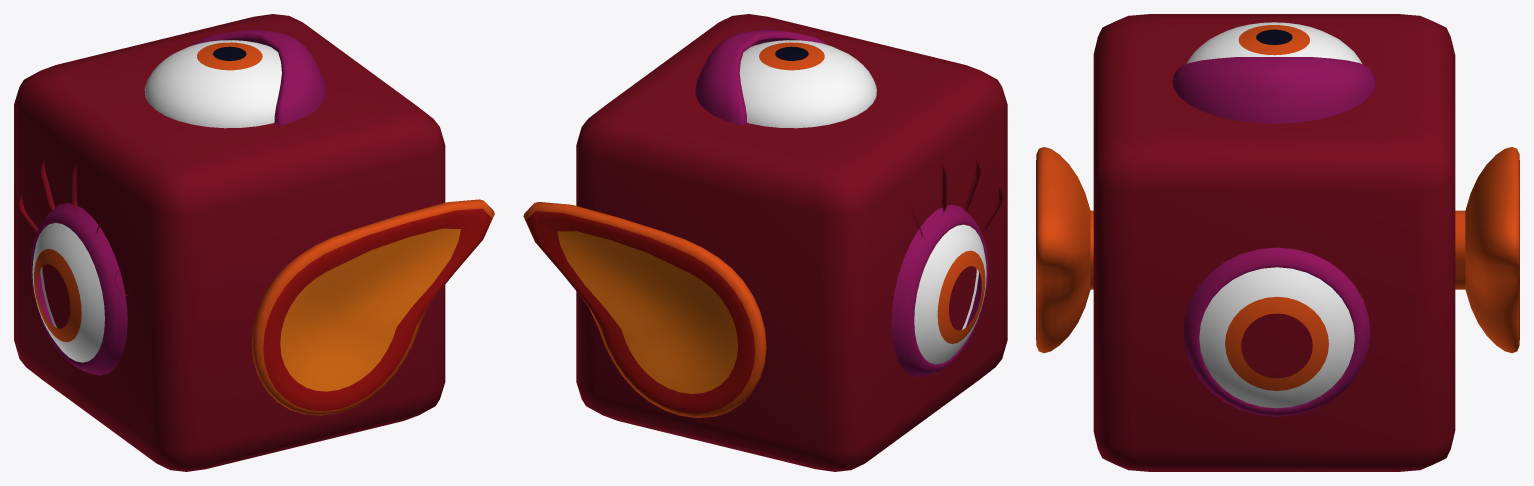
The model's file is quick_square.FBX.
3 renders of one model, left to right at view 1: azimuth 30°, elevation 25°; view 2: azimuth 150°, elevation 25°; view 3: azimuth 270°, elevation 25°, orthographic. The views are drawn at different scales.
Parts seen in each view (by area): view 1: Box008, Sphere054, Sphere063, Sphere051, Sphere069; view 2: Box008, Sphere068, Sphere063, Sphere051, Sphere069; view 3: Box008, Sphere067, Sphere069, Sphere068, Sphere054, Sphere051.
Boxes of the visible parts, x1,y1,x2,y2 form: Box008: [14, 14, 445, 471]; Sphere054: [251, 199, 494, 415]; Sphere063: [30, 203, 127, 375]; Sphere051: [144, 40, 281, 128]; Sphere069: [193, 30, 326, 125]; Box008: [576, 14, 1007, 471]; Sphere068: [523, 202, 766, 417]; Sphere063: [891, 204, 988, 377]; Sphere051: [739, 40, 876, 128]; Sphere069: [695, 30, 827, 125]; Box008: [1093, 14, 1455, 471]; Sphere067: [1183, 247, 1370, 416]; Sphere069: [1172, 57, 1376, 123]; Sphere068: [1455, 147, 1519, 353]; Sphere054: [1036, 147, 1093, 353]; Sphere051: [1186, 22, 1362, 64].
Size of the model in its own units: 30.46 by 28.4 by 33.44.
